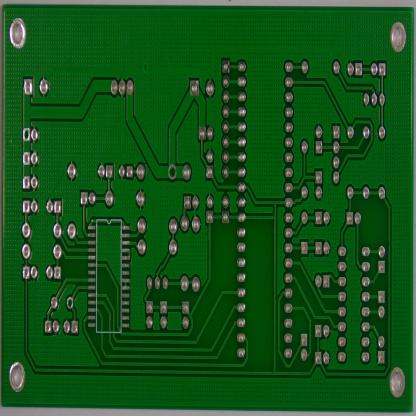missing_hole: (168, 162, 177, 180), (66, 293, 74, 309), (22, 126, 30, 142)
